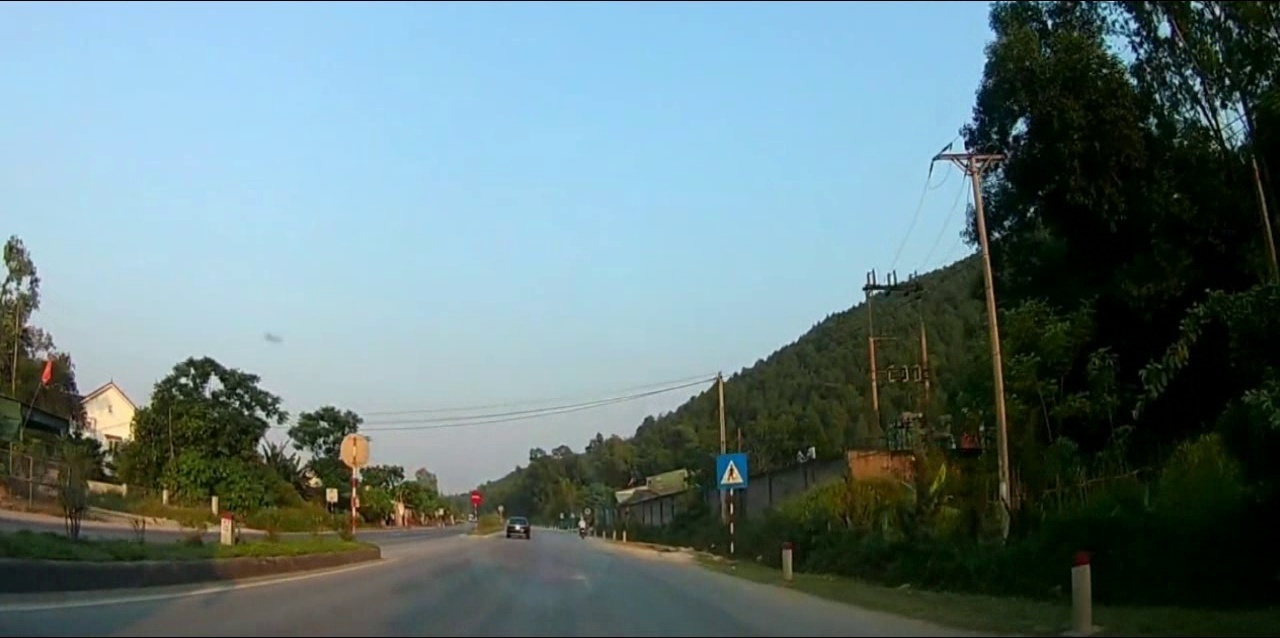Cam di nguoc chieu: (470, 490, 482, 504)
Nguoi di bo: (715, 452, 748, 489)
